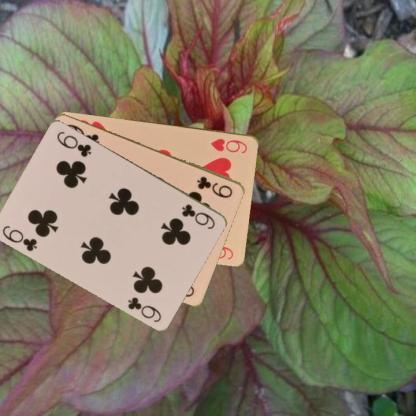6c: (179, 201, 217, 231), (0, 223, 39, 252)
6h: (208, 135, 249, 154)
9c: (194, 174, 234, 200)
